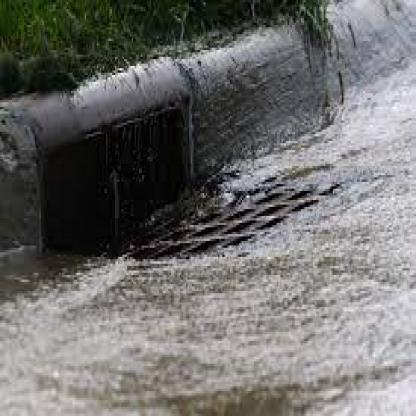open drainage-overflowing-: (75, 95, 343, 349)
